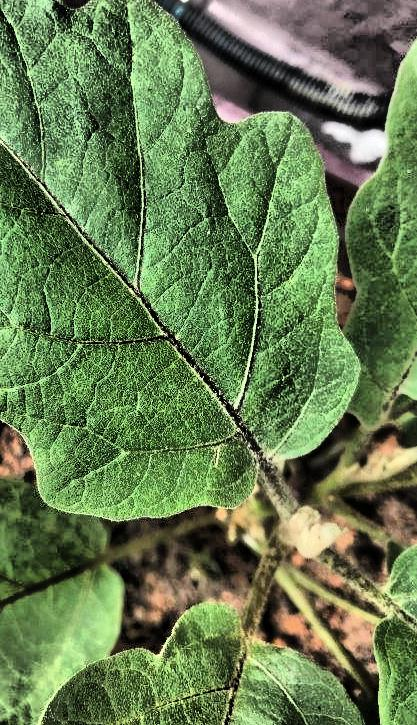HEALTHY: (94, 0, 417, 511)
